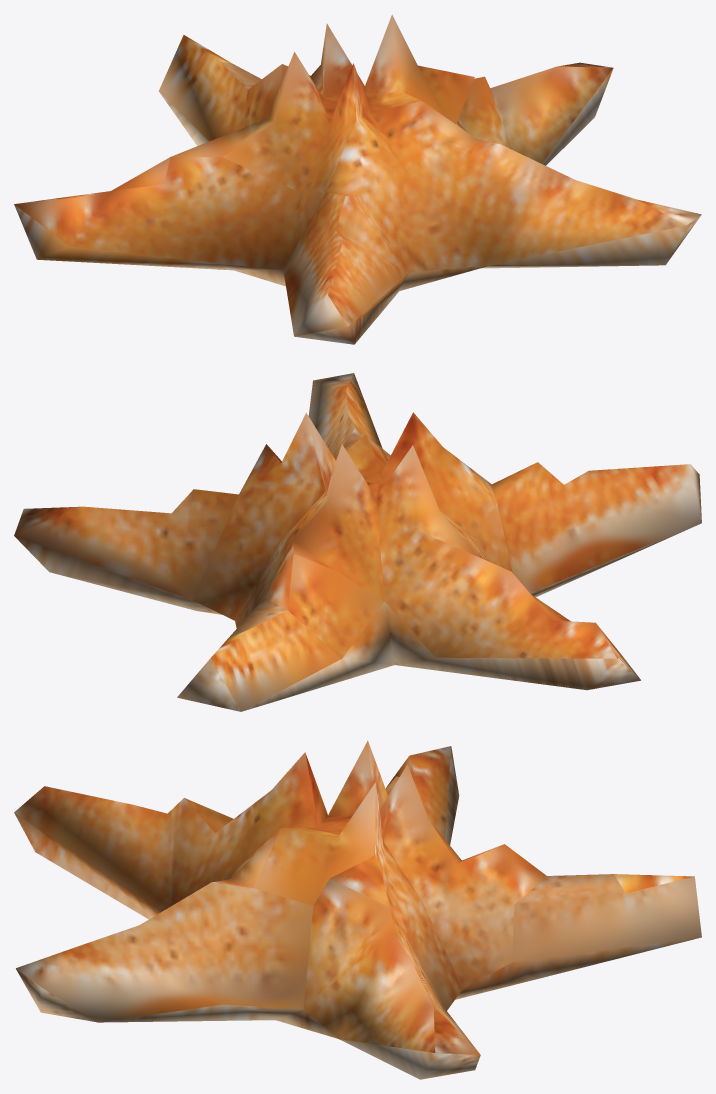
The model's file is Q_Starfish.fbx.
3 renders of one model, top to bottom at view 1: azimuth 30°, elevation 25°; view 2: azimuth 150°, elevation 25°; view 3: azimuth 270°, elevation 25°, orthographic. The views are drawn at different scales.
Parts seen in each view (by area): view 1: Aset_other__S_ue2jfgyjw_LOD6; view 2: Aset_other__S_ue2jfgyjw_LOD6; view 3: Aset_other__S_ue2jfgyjw_LOD6.
Part boxes in pixels (left/top/right/bottom): Aset_other__S_ue2jfgyjw_LOD6: left=14, top=14, right=701, bottom=344; Aset_other__S_ue2jfgyjw_LOD6: left=14, top=373, right=701, bottom=711; Aset_other__S_ue2jfgyjw_LOD6: left=14, top=740, right=701, bottom=1079.
Size of the model in its own units: 4.08 by 1.34 by 3.9.
